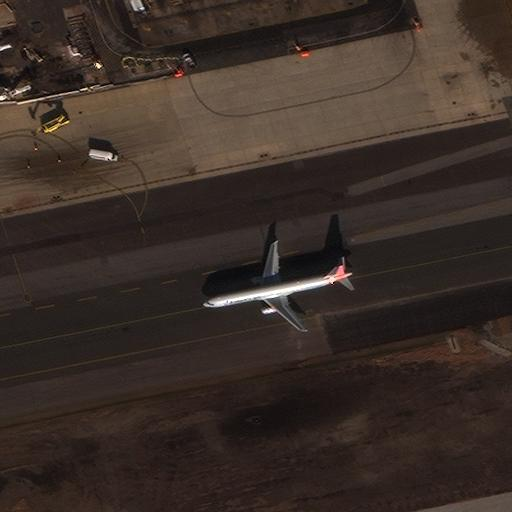Medium Civil Transport: (206, 240, 352, 329)
